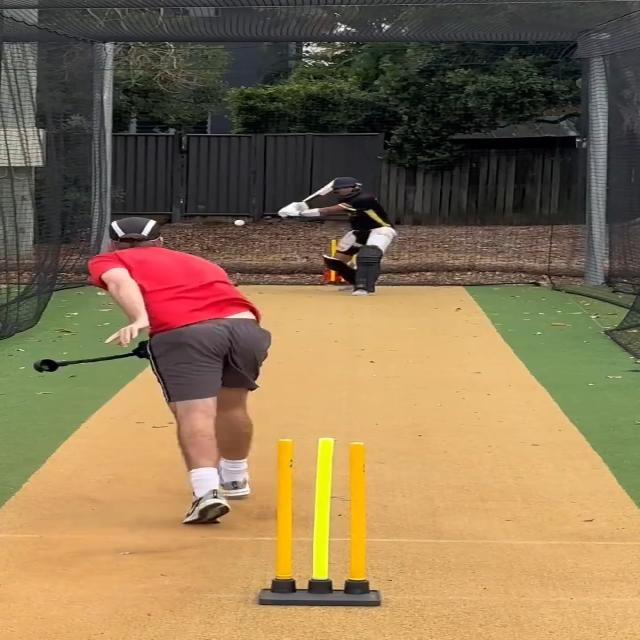ball: (232, 218, 248, 226)
stump: (256, 436, 383, 608)
